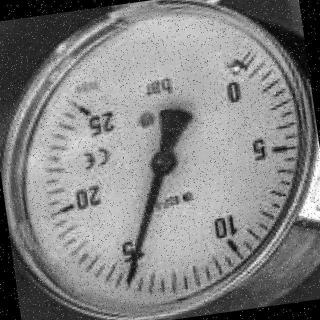gauge: (0, 0, 320, 320), (210, 41, 268, 108), (68, 95, 106, 132), (144, 148, 177, 179), (121, 274, 137, 292)
